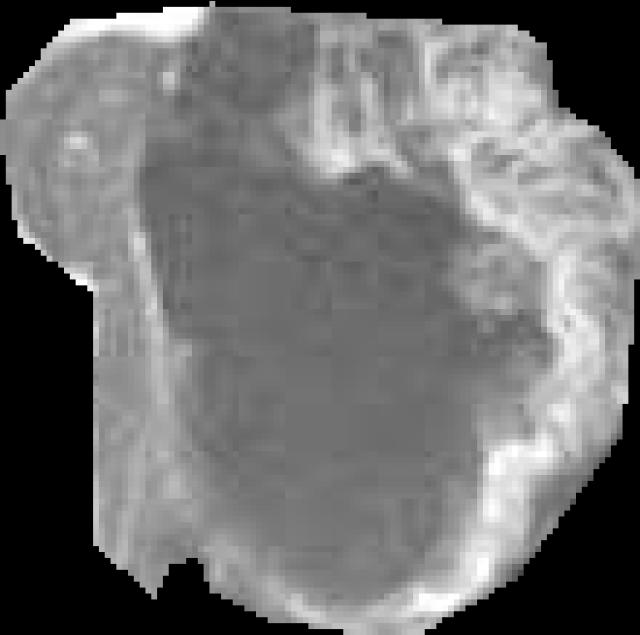tumor_moderate_chance: (0, 1, 640, 635)
